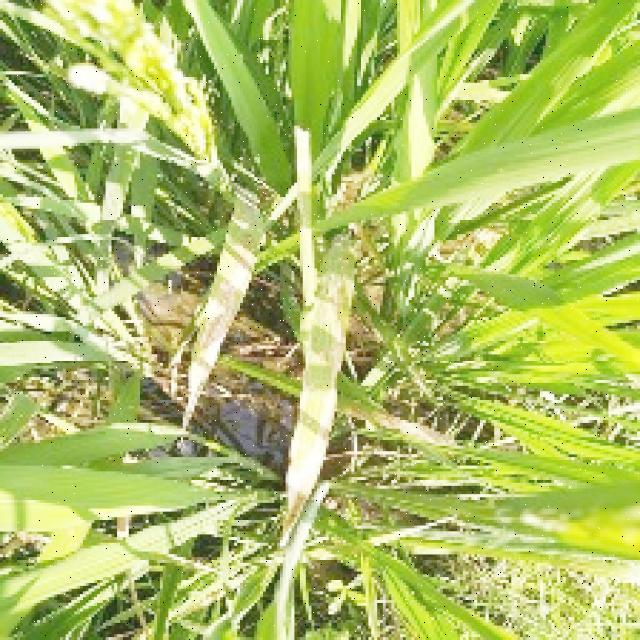health: (183, 3, 476, 104)
